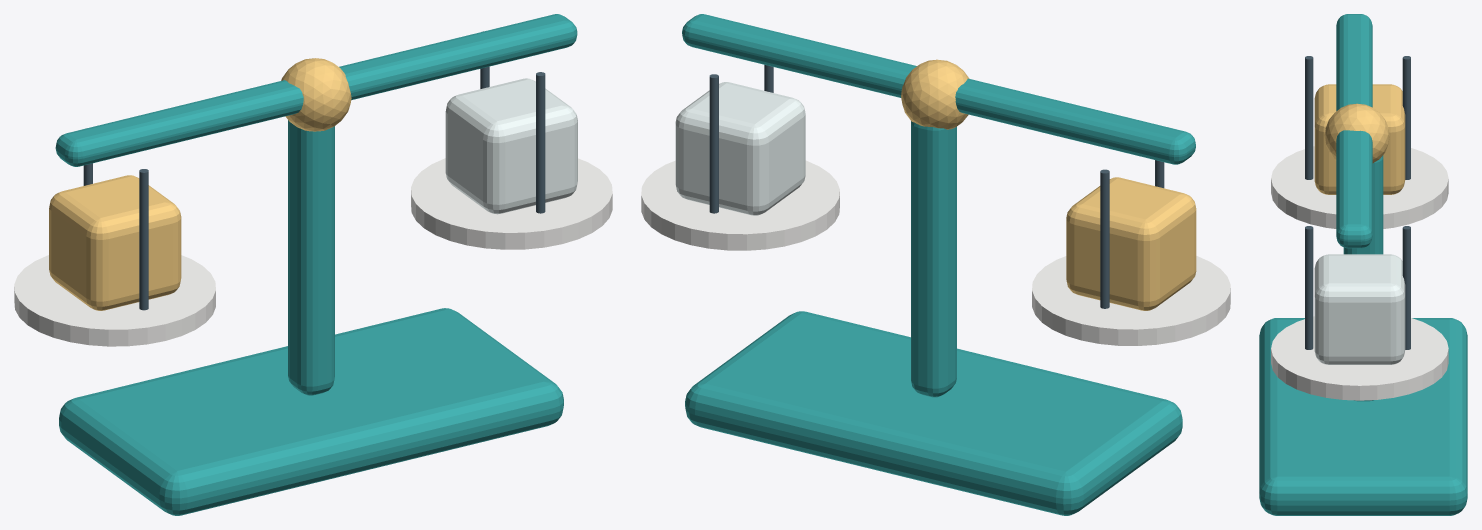
Rendered from balance-scale.glb.
The picture shows the model from 3 angles, left to right: view 1: azimuth 30°, elevation 25°; view 2: azimuth 150°, elevation 25°; view 3: azimuth 270°, elevation 25°; orthographic projection. The views are drawn at different scales.
Parts seen in each view (by area): view 1: base, beam, left_block, right_block, post, left_pan, right_pan, pivot, right_cord_1, left_cord_1; view 2: base, beam, left_block, right_block, post, right_pan, left_pan, pivot, right_cord_0, left_cord_0; view 3: base, right_block, right_pan, beam, left_pan, left_block, pivot, post, left_cord_1, right_cord_1, left_cord_0, right_cord_0.
Part boxes in pixels (<box>): base: <box>59,308,563,515</box>; beam: <box>55,14,577,166</box>; left_block: <box>49,175,181,310</box>; right_block: <box>445,78,577,214</box>; post: <box>288,120,334,395</box>; left_pan: <box>14,255,215,346</box>; right_pan: <box>411,158,612,249</box>; pivot: <box>281,58,351,131</box>; right_cord_1: <box>536,72,545,213</box>; left_cord_1: <box>139,169,148,310</box>; base: <box>685,311,1182,515</box>; beam: <box>682,14,1195,164</box>; left_block: <box>1066,177,1196,310</box>; right_block: <box>675,82,805,215</box>; post: <box>911,121,956,397</box>; right_pan: <box>641,160,839,250</box>; left_pan: <box>1032,256,1230,345</box>; pivot: <box>901,59,969,129</box>; right_cord_0: <box>709,74,718,213</box>; left_cord_0: <box>1100,169,1109,308</box>; base: <box>1259,318,1467,515</box>; right_block: <box>1314,254,1405,364</box>; right_pan: <box>1271,316,1448,400</box>; beam: <box>1336,14,1372,248</box>; left_pan: <box>1271,146,1448,228</box>; left_block: <box>1314,84,1405,194</box>; pivot: <box>1324,103,1389,163</box>; post: <box>1343,155,1383,401</box>; left_cord_1: <box>1305,56,1313,179</box>; right_cord_1: <box>1305,226,1313,349</box>; left_cord_0: <box>1402,56,1410,179</box>; right_cord_0: <box>1402,226,1410,349</box>.
Bounding box in the file's own units: 3.2 × 2 × 1.15.
